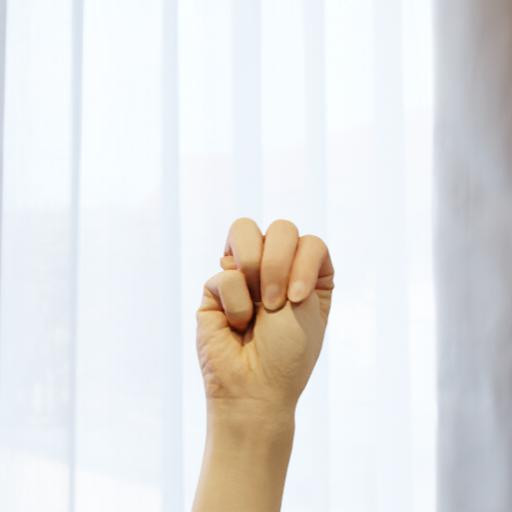M: (188, 192, 397, 467)
